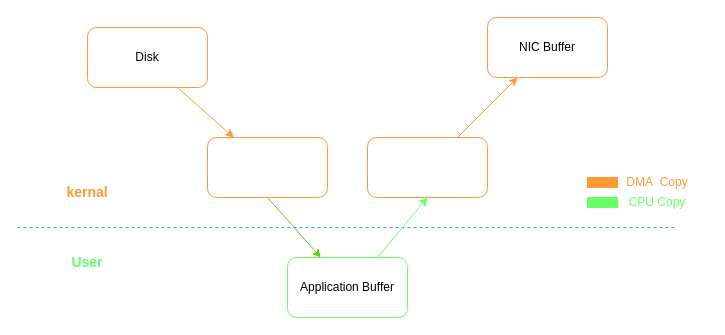
Image size: 725x335. Some labels were removed from this diagram. Here are the shapes that lost their labels. From the top down, the centre of each, then its label:
point 267,167: Read Buffer
point 427,167: Socket Buffer
